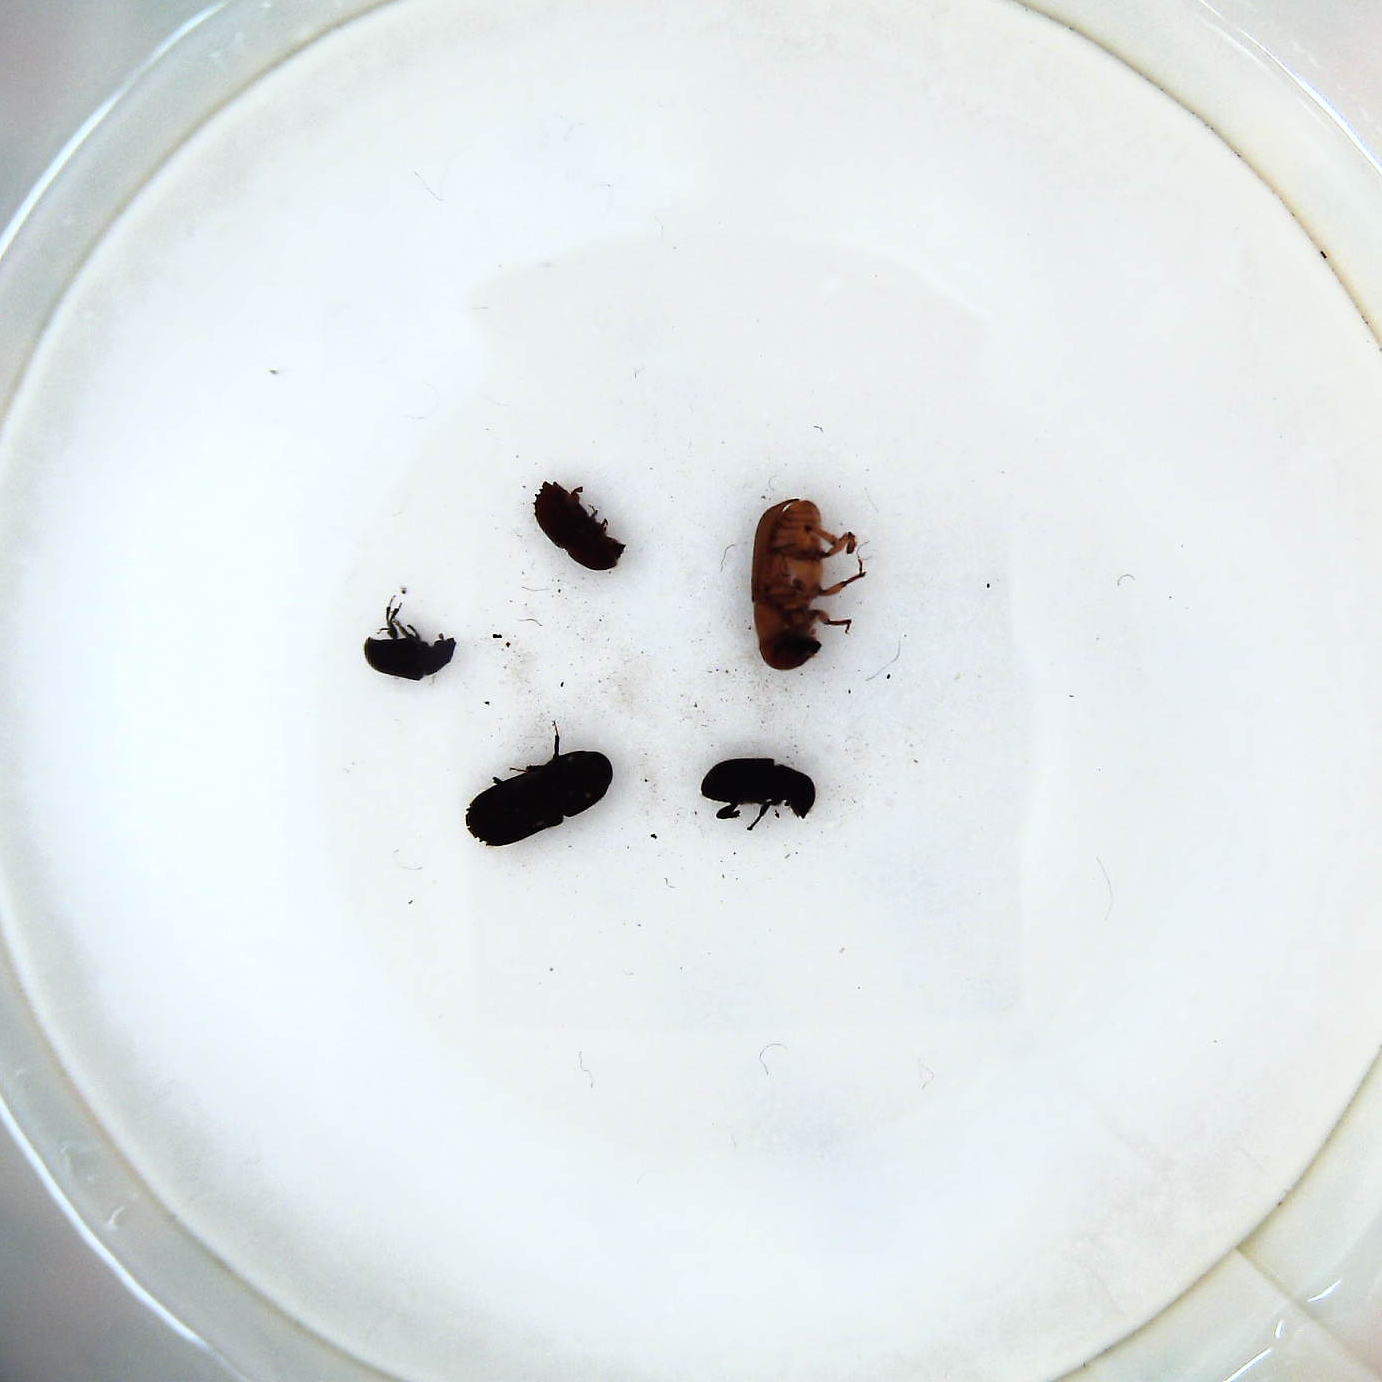Boerner: (463, 731, 618, 853)
Leconte: (748, 494, 868, 669)
armandi: (697, 756, 819, 831)
coleoptera: (361, 599, 461, 687)
linnaeus: (532, 480, 626, 577)
